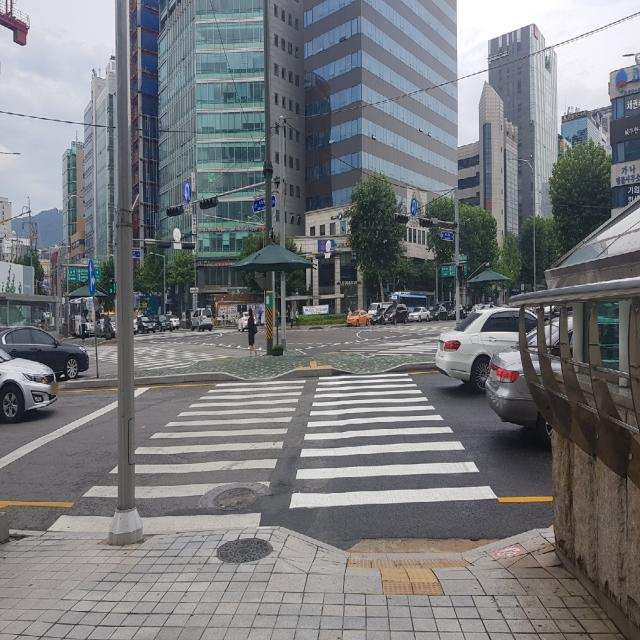빨간불: (461, 266, 464, 277)
초록불: (110, 282, 115, 294)
횡단보도: (45, 373, 498, 532), (90, 341, 218, 358)
